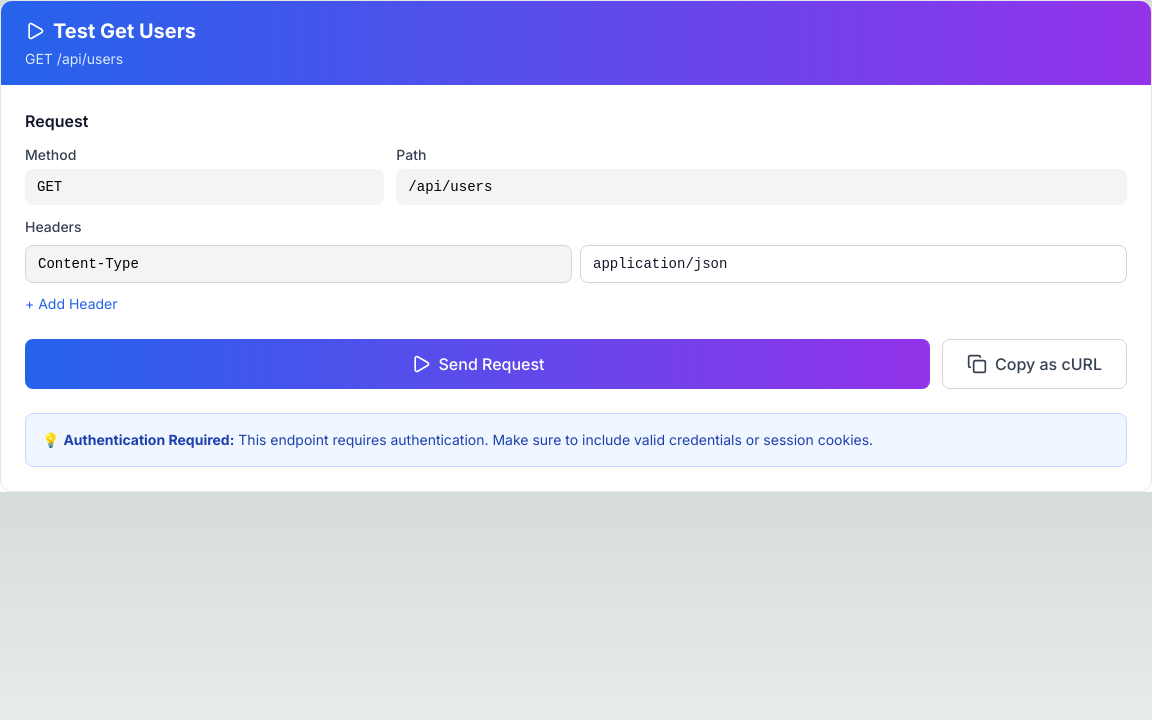
it: APITestingPanel › Request Testing › should handle request errors
Click the button "Send Request". click: point(478, 364)
box: [25,339,930,389]
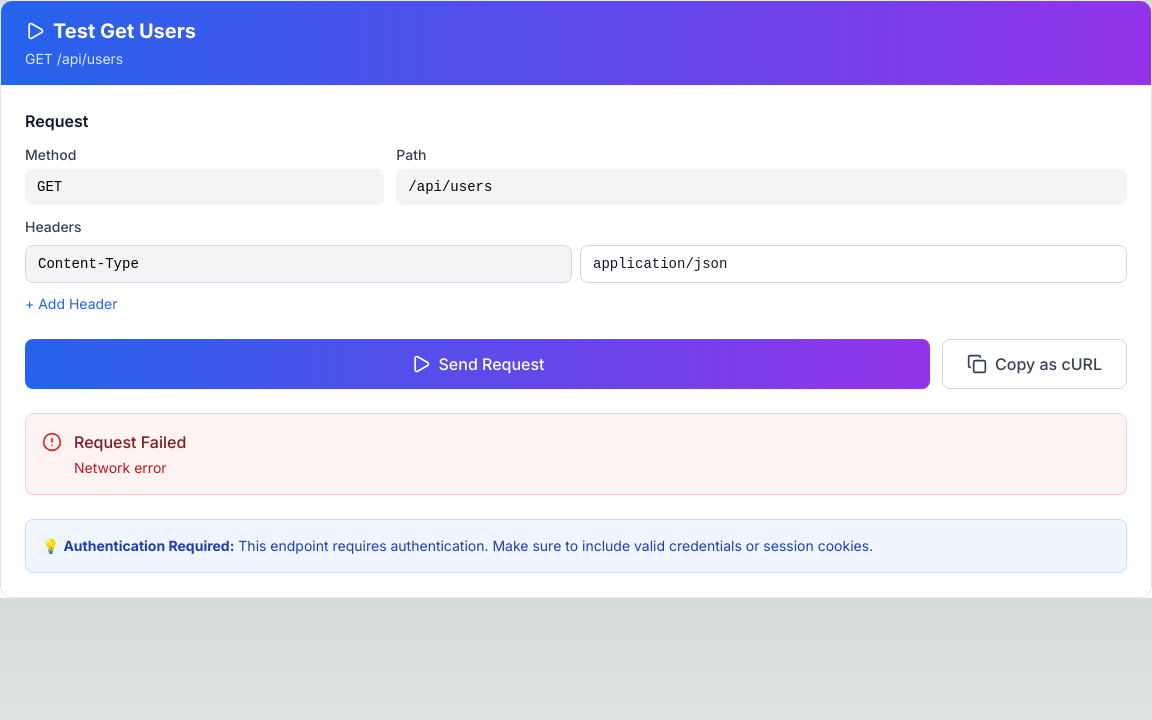
Expected: the text "Network error" is shown, [74,459,167,476]
